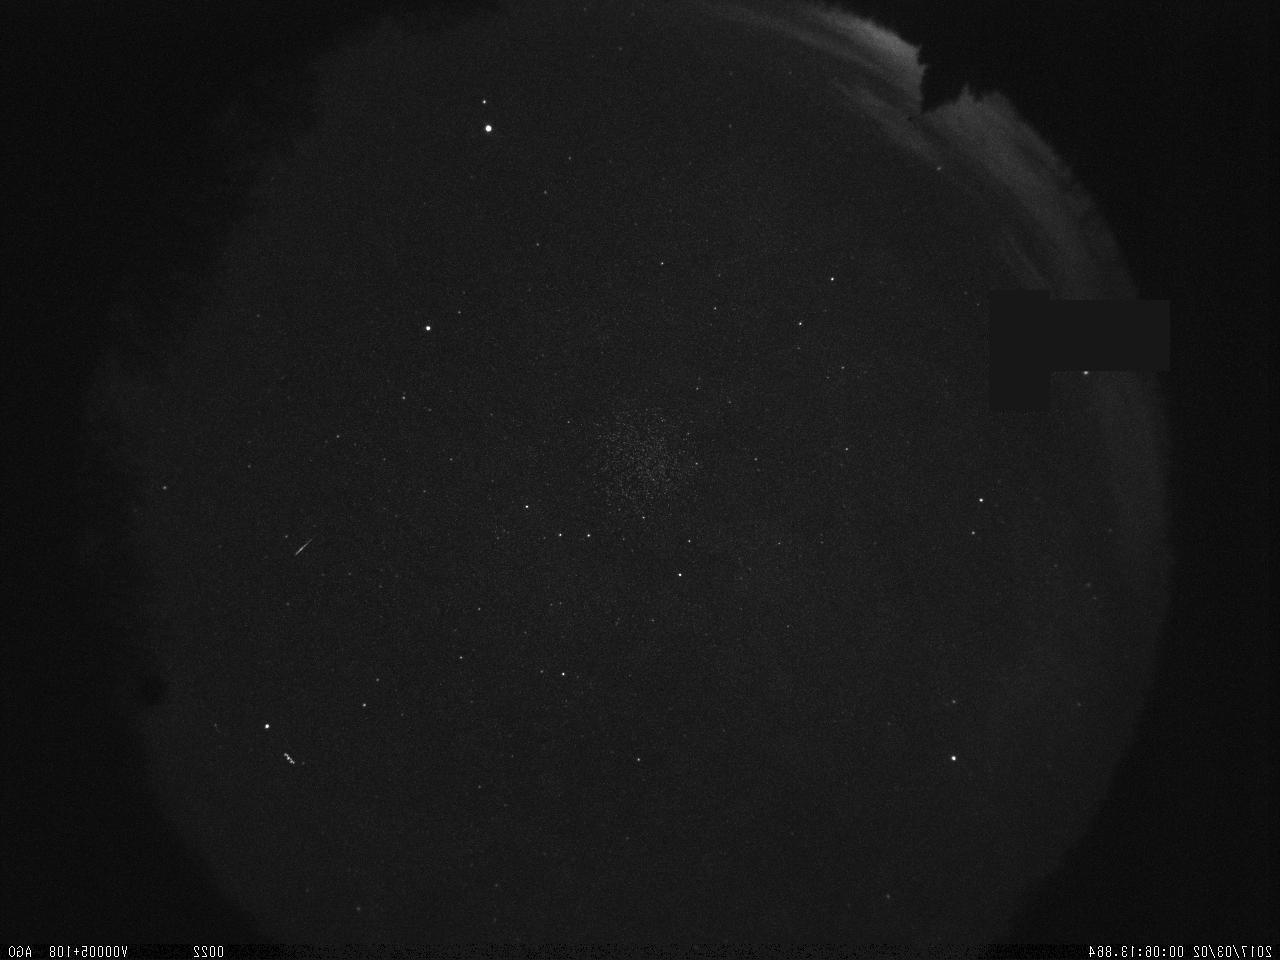meteor: (285, 526, 324, 566)
